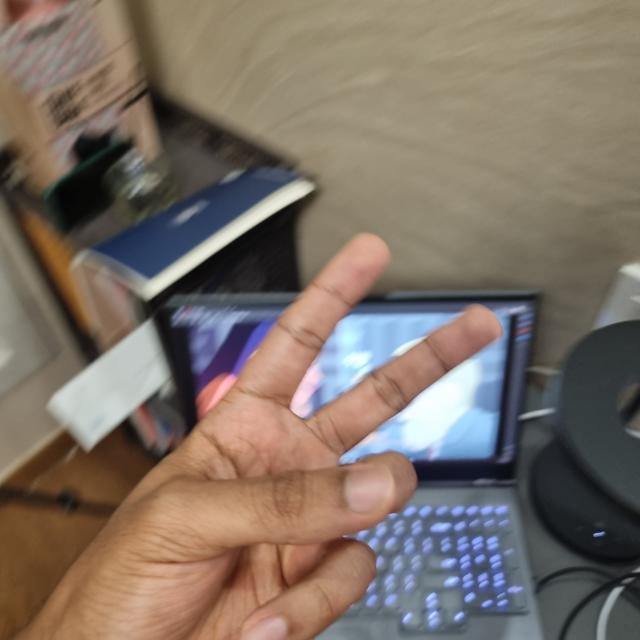Scissors: (25, 236, 498, 639)
